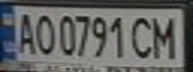0: (54, 11, 75, 57)
1: (106, 12, 130, 60)
7: (72, 11, 90, 57)
9: (90, 12, 112, 59)
A: (12, 9, 39, 55)
C: (127, 12, 157, 61)
M: (148, 12, 184, 61)
O: (30, 10, 57, 56)
